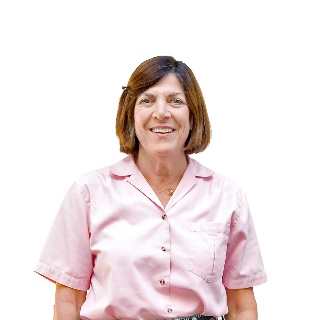without_mask: (114, 55, 211, 155)
